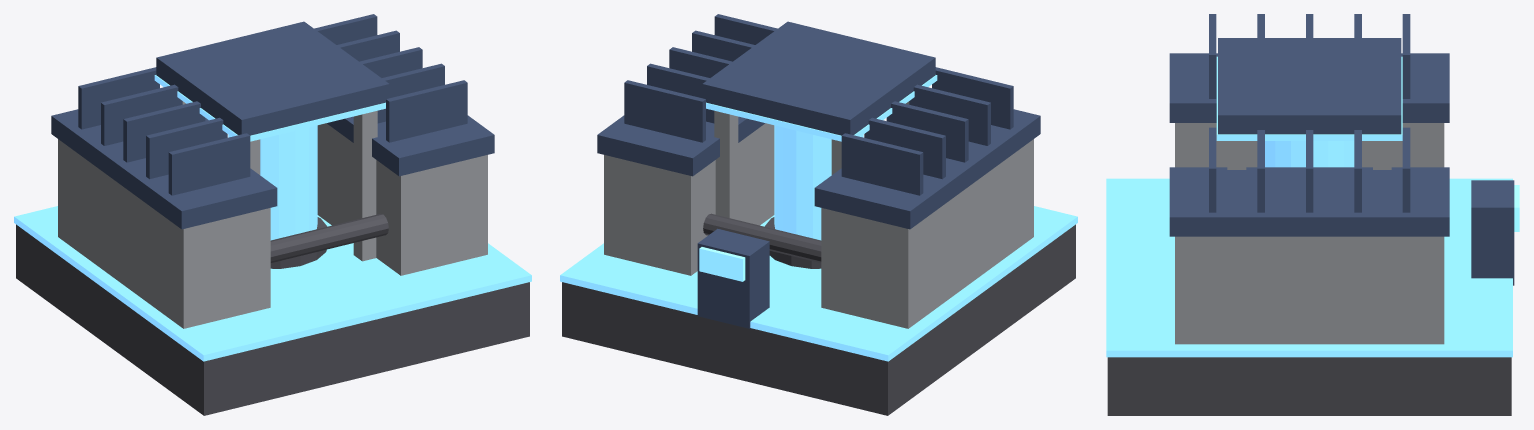
Rendered from us_power_generator.glb.
The picture shows the model from 3 angles, left to right: view 1: azimuth 30°, elevation 25°; view 2: azimuth 150°, elevation 25°; view 3: azimuth 270°, elevation 25°; orthographic projection. The views are drawn at different scales.
Parts seen in each view (by area): view 1: Base, BlockL, BaseStrip, TopCap, BlockR, BlockLTop, Core, BlockRTop, FinL, FinR, Post.002, Pipe2 (+10 smaller); view 2: Base, BlockL, TopCap, BaseStrip, BlockR, BlockLTop, Core, Kiosk, BlockRTop, FinL.004, FinR.004, Post.003 (+12 smaller); view 3: BlockR, BaseStrip, Base, BlockRTop, TopCap, BlockLTop, BlockL, Kiosk, Core, CapStrip, FinR.004, FinL.004 (+7 smaller).
Boxes of the visible parts, x1,y1,x2,y2 form: Base: (16, 224, 529, 415); BlockL: (58, 139, 270, 328); BaseStrip: (14, 206, 531, 361); TopCap: (156, 21, 389, 135); BlockR: (317, 123, 487, 275); BlockLTop: (51, 109, 277, 229); Core: (228, 125, 317, 240); BlockRTop: (326, 115, 494, 176); FinL: (168, 133, 250, 195); FinR: (386, 80, 467, 142); Post.002: (353, 110, 377, 261); Pipe2: (270, 213, 388, 262); Base: (562, 224, 1075, 415); BlockL: (821, 139, 1033, 328); TopCap: (702, 21, 935, 135); BaseStrip: (560, 206, 1077, 361); BlockR: (604, 123, 774, 275); BlockLTop: (814, 109, 1040, 229); Core: (774, 125, 863, 240); Kiosk: (697, 228, 769, 328); BlockRTop: (597, 115, 765, 176); FinL.004: (841, 133, 923, 195); FinR.004: (624, 80, 705, 142); Post.003: (714, 110, 738, 219); BlockR: (1175, 236, 1444, 344); BaseStrip: (1106, 178, 1512, 357); Base: (1107, 357, 1511, 415); BlockRTop: (1169, 167, 1449, 236); TopCap: (1218, 38, 1401, 134); BlockLTop: (1169, 53, 1449, 122); BlockL: (1175, 123, 1444, 167); Kiosk: (1471, 180, 1514, 285); Core: (1265, 141, 1354, 167); CapStrip: (1216, 56, 1402, 140); FinR.004: (1402, 127, 1410, 212); FinL.004: (1402, 14, 1410, 98).
Bounding box in the file's own units: 7.55 × 5.2 × 7.67.
